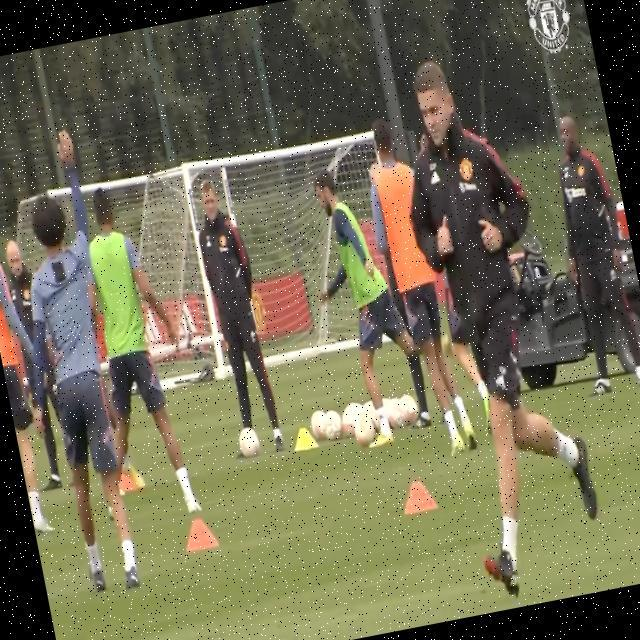Adidas: (172, 301, 200, 343), (139, 308, 166, 349), (494, 372, 508, 391), (430, 169, 442, 186)
